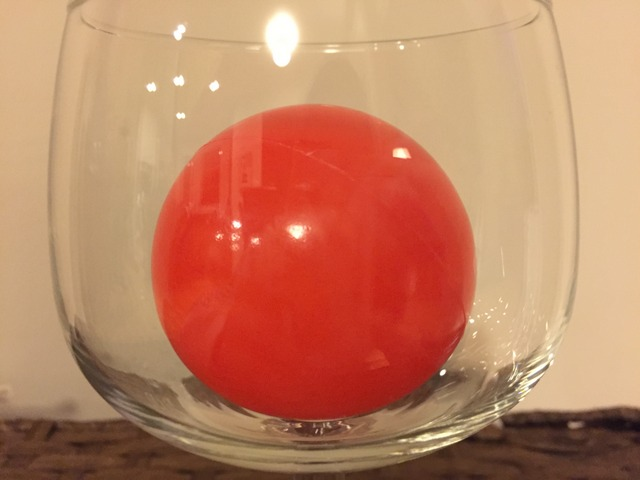Ball: (152, 100, 482, 426)
